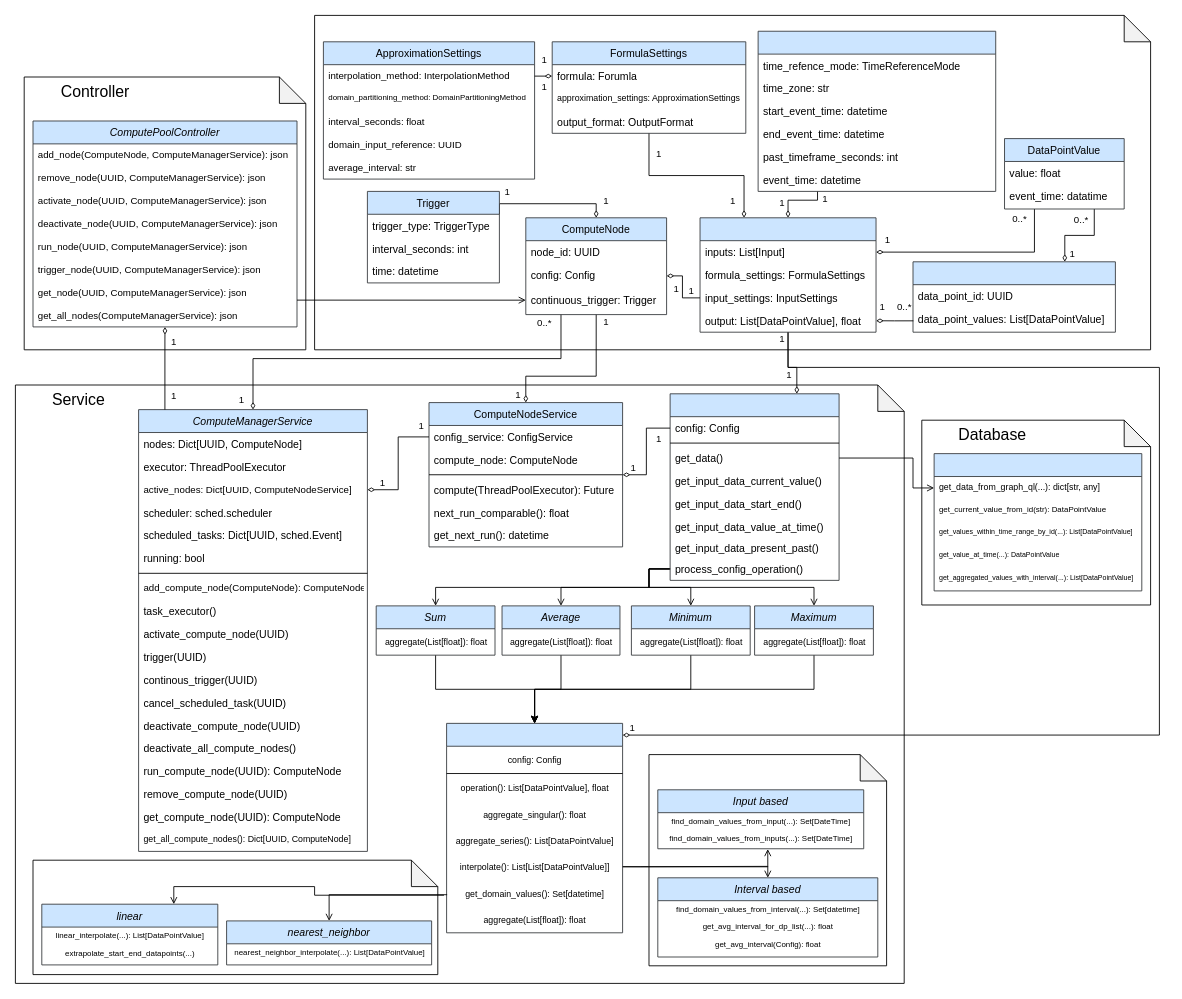
The diagram is 1182 pixels wide and 999 high, and some of its shapes have lost their labels. Each missing label, with the box of its shape:
AggregateOperation: (446, 722, 623, 933)
Config: (699, 217, 876, 332)
ConfigService: (669, 393, 839, 580)
Data fetcher service: (933, 453, 1142, 591)
Domain partitioning methods: (648, 754, 887, 966)
Input: (912, 261, 1115, 332)
InputSettings: (757, 30, 996, 191)
Interpolation methods: (32, 859, 438, 975)
Model: (314, 15, 1151, 350)
